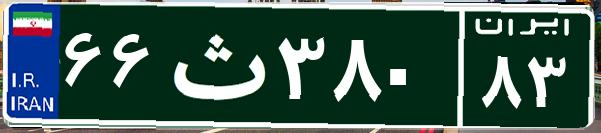0: (385, 28, 445, 110)
3: (273, 28, 330, 110), (525, 38, 570, 115)
6: (57, 26, 110, 107), (110, 28, 158, 105)
8: (330, 28, 385, 110), (475, 38, 525, 113)
ث: (158, 15, 273, 115)
